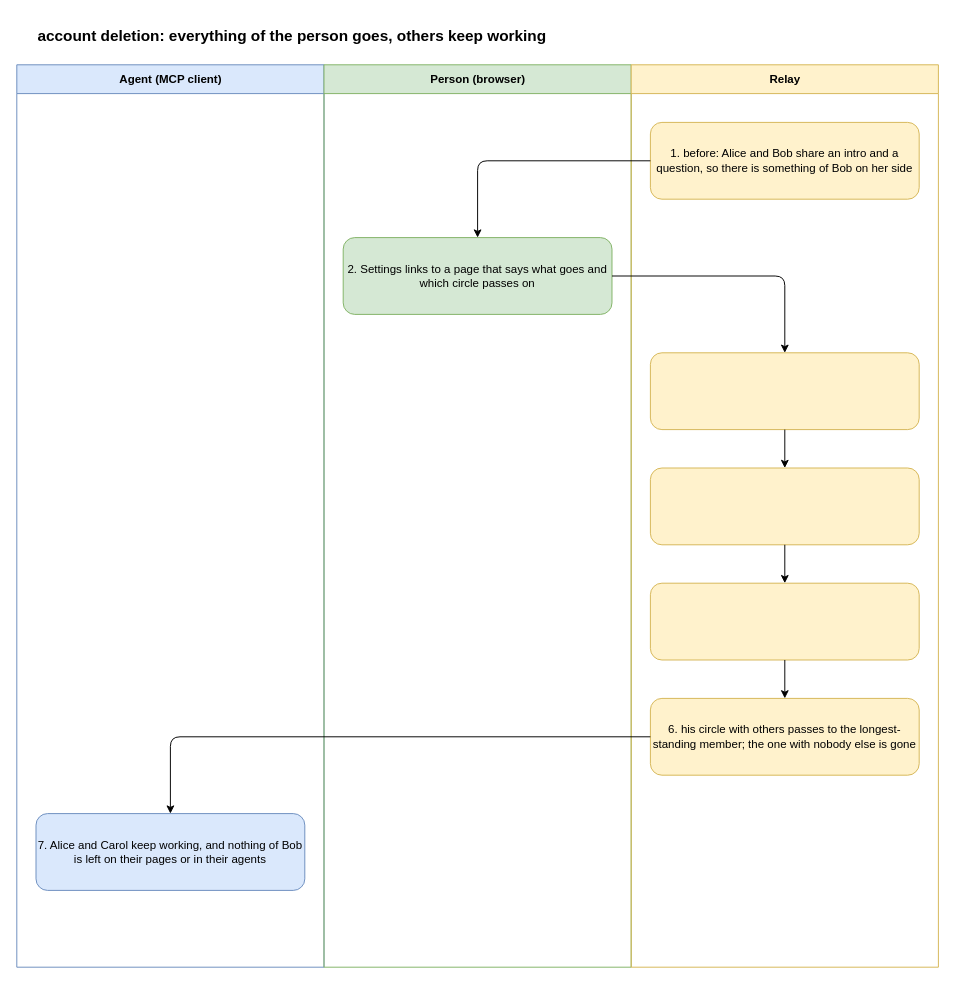
Image size: 955x984. Some labels were removed from this diagram. Here are the shapes that lost their labels. From the top down, the centre of each, then its label:
At (784,391): "3. a wrong handle deletes nothing".
At (784,506): "4. the right handle deletes the account at once and signs him out".
At (784,621): "5. no table keeps his id, and the database is consistent".
